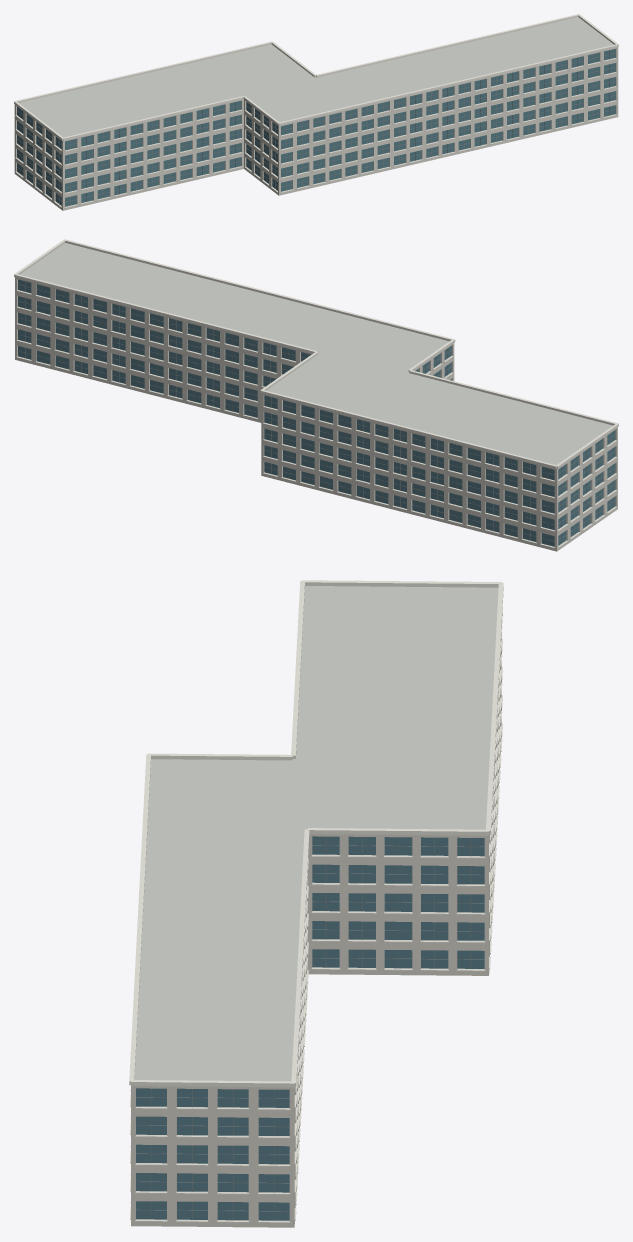
3 views of the same model, one above another, from view 1: azimuth 30°, elevation 25°; view 2: azimuth 150°, elevation 25°; view 3: azimuth 270°, elevation 25° (orthographic). The views are drawn at different scales.
Visible parts, largest first — view 1: wall, roof, glass, trim, metal; view 2: roof, wall, glass, trim, metal; view 3: roof, wall, glass, trim, metal.
Part boxes in pixels (box(x1,y1,x2,y2)): wall: box(14, 47, 618, 210); roof: box(19, 17, 613, 137); glass: box(17, 49, 615, 206); trim: box(14, 14, 618, 207); metal: box(17, 50, 615, 205); roof: box(20, 243, 612, 465); wall: box(15, 277, 617, 551); glass: box(18, 279, 615, 546); trim: box(14, 239, 618, 548); metal: box(18, 281, 615, 544); roof: box(134, 586, 498, 1081); wall: box(131, 624, 501, 1227); glass: box(136, 836, 484, 1220); trim: box(129, 580, 503, 1222); metal: box(136, 837, 484, 1220).
Size of the model in its own units: 122 by 16.34 by 38.27.
